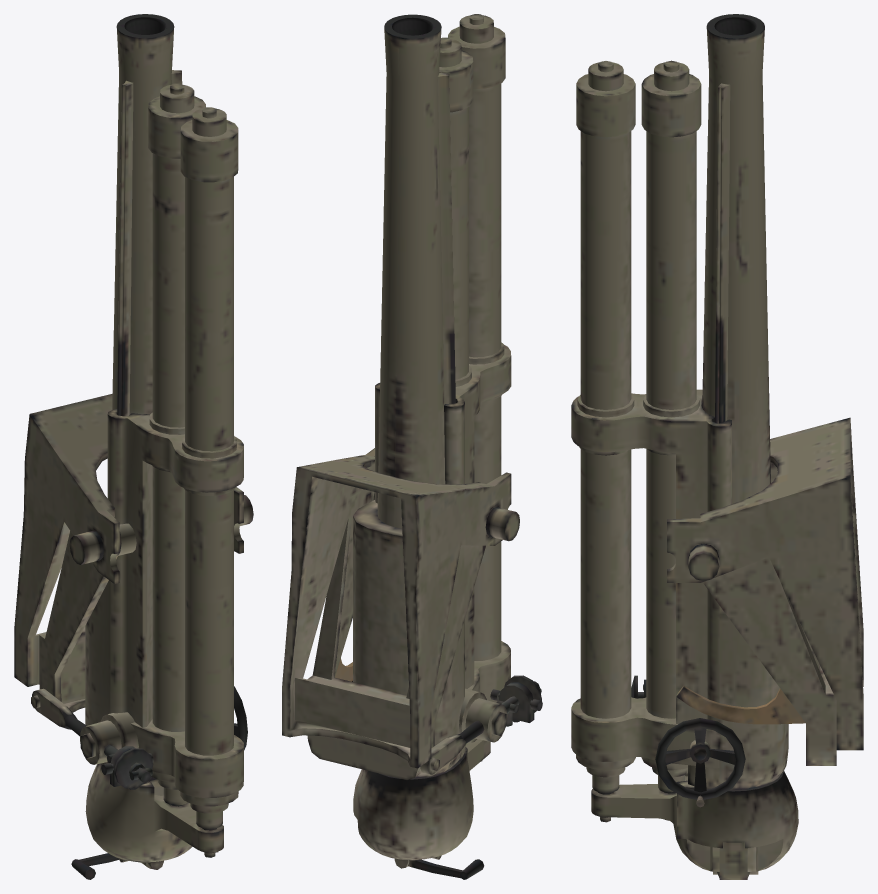
Rendered from Gun_01.glb.
3 renders of one model, left to right at view 1: azimuth 30°, elevation 25°; view 2: azimuth 150°, elevation 25°; view 3: azimuth 270°, elevation 25°, orthographic.
Visible parts, largest first — view 1: set_0_group_0; view 2: set_0_group_0; view 3: set_0_group_0.
Part boxes in pixels (x1,y1,x2,y2): set_0_group_0: (14,14,253,879); set_0_group_0: (282,14,542,879); set_0_group_0: (571,14,863,879).
Bounding box in the file's own units: 0.4001 × 1.89 × 0.5908.
Materials: 1 (1 with a texture image).
